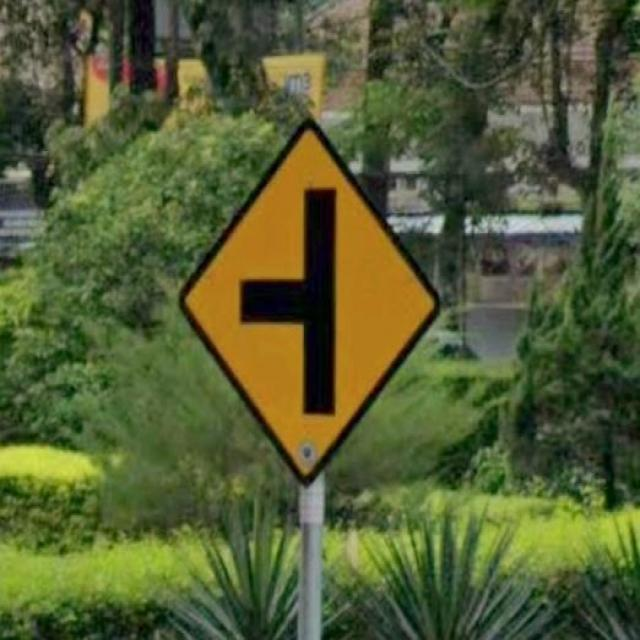traffic sign: (186, 134, 444, 472)
